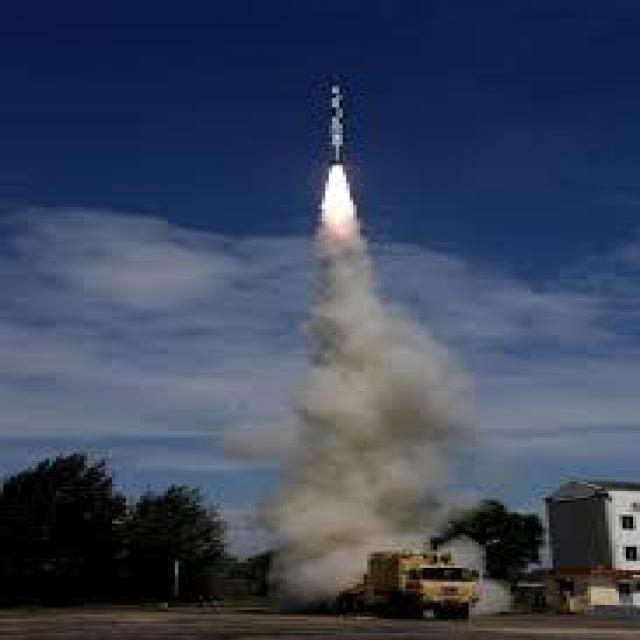rocket: (311, 75, 364, 373)
